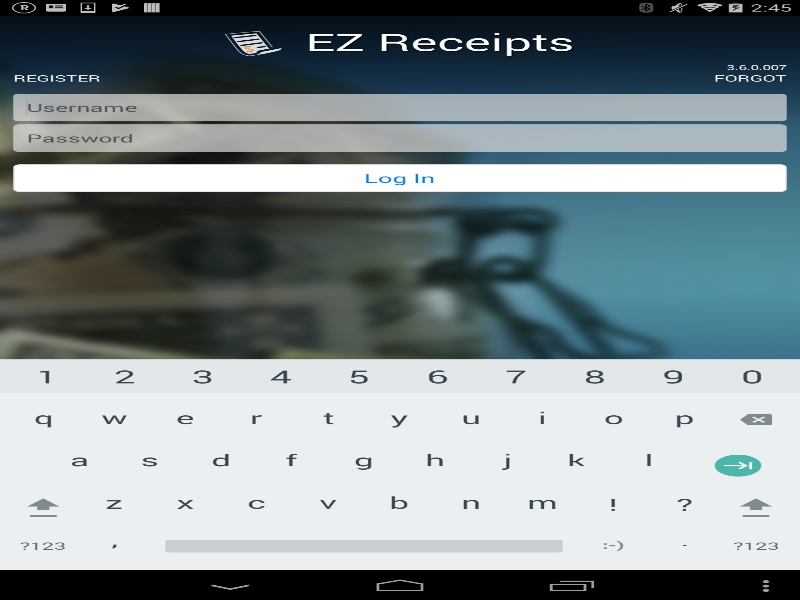Input: (13, 93, 786, 121), (13, 124, 786, 151)
